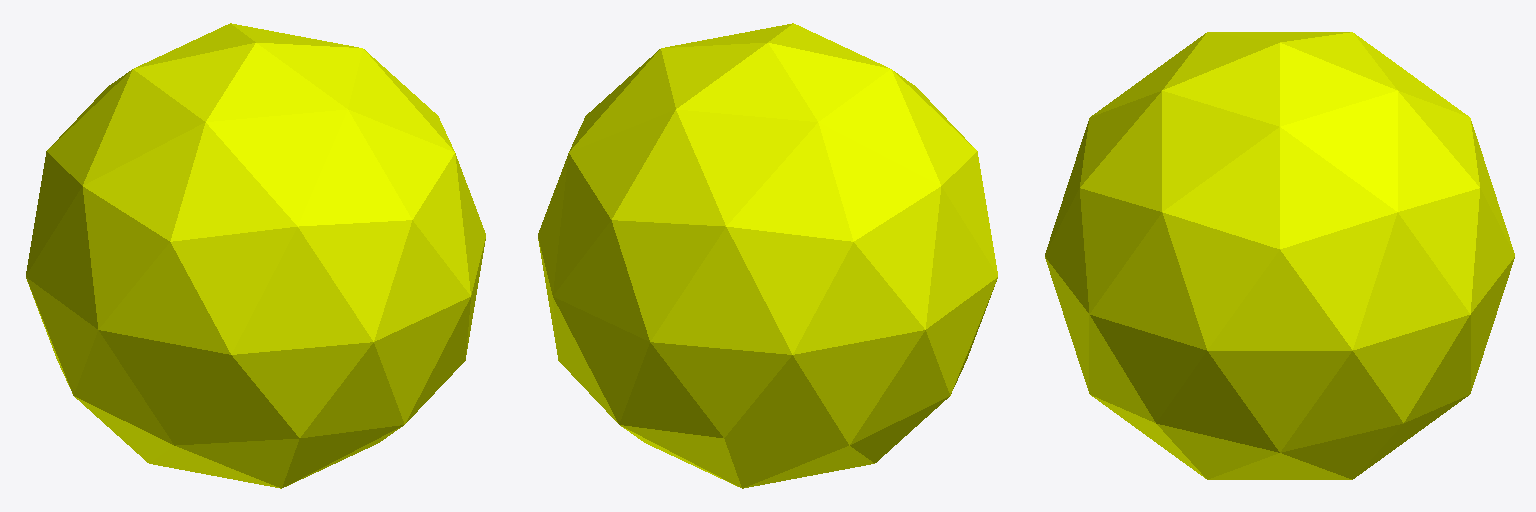
3 renders of one model, left to right at view 1: azimuth 30°, elevation 25°; view 2: azimuth 150°, elevation 25°; view 3: azimuth 270°, elevation 25°, orthographic.
Size of the model in its own units: 4.64 by 4.87 by 4.87.
Materials: 1 (1 with a texture image).